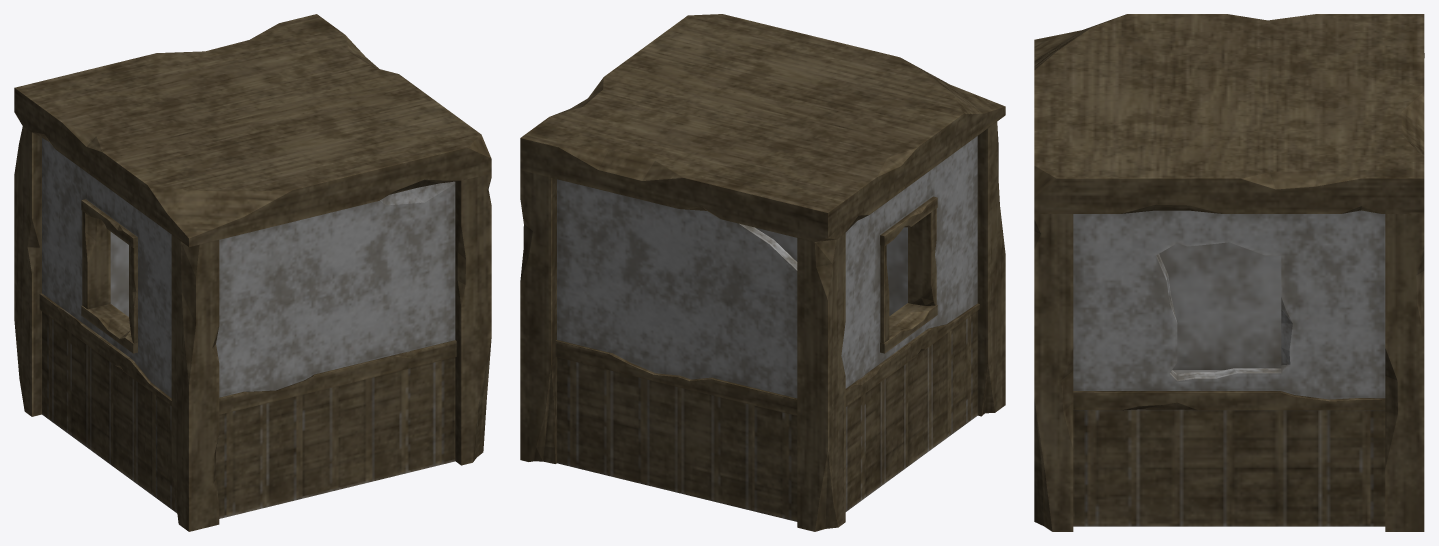
Rendered from sb_obj_outdoor029_house02_wall01_ruins.fbx.
The picture shows the model from 3 angles, left to right: view 1: azimuth 30°, elevation 25°; view 2: azimuth 150°, elevation 25°; view 3: azimuth 270°, elevation 25°; orthographic projection. The views are drawn at different scales.
Parts seen in each view (by area): view 1: sb_obj_outdoor029_house02_wall01_ruins; view 2: sb_obj_outdoor029_house02_wall01_ruins; view 3: sb_obj_outdoor029_house02_wall01_ruins.
Boxes of the visible parts, x1,y1,x2,y2 form: sb_obj_outdoor029_house02_wall01_ruins: (14, 14, 491, 531); sb_obj_outdoor029_house02_wall01_ruins: (520, 14, 1005, 531); sb_obj_outdoor029_house02_wall01_ruins: (1034, 14, 1424, 531).
Bounding box in the file's own units: 3 × 3 × 3.
